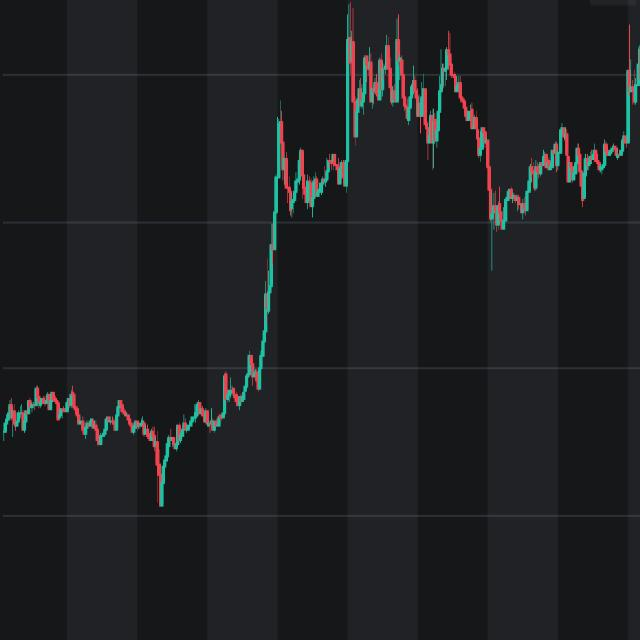Resistance-breakout: (214, 78, 293, 446), (316, 2, 364, 212)
Support-breakout: (464, 91, 526, 249)
